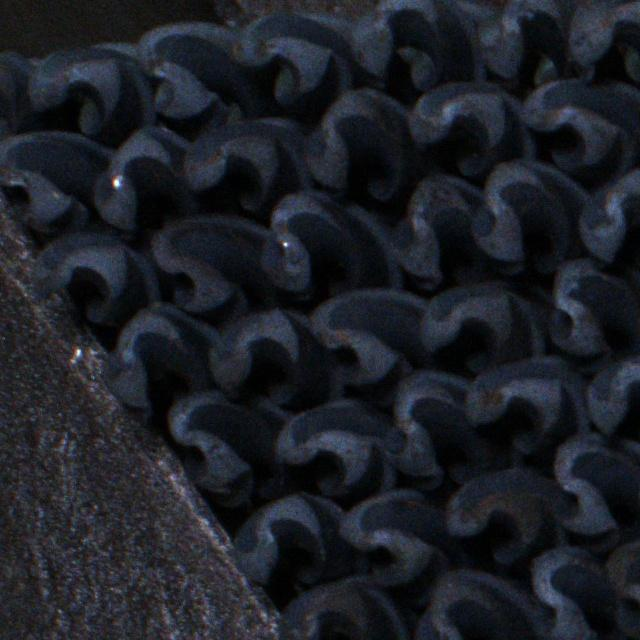tool_b: (384, 369, 520, 488), (262, 189, 404, 296), (165, 390, 292, 506), (107, 303, 223, 424), (474, 160, 595, 276), (138, 21, 263, 130), (208, 309, 345, 407), (232, 496, 368, 594), (342, 488, 458, 600), (466, 357, 594, 457), (350, 2, 492, 92), (408, 79, 540, 175), (300, 87, 413, 199), (147, 215, 273, 315), (183, 115, 316, 209), (306, 286, 431, 385), (275, 398, 401, 496), (230, 14, 360, 108), (29, 41, 157, 136), (442, 468, 566, 566), (29, 234, 160, 326), (419, 283, 552, 371), (0, 134, 115, 235), (519, 76, 639, 172), (91, 124, 198, 230), (386, 174, 484, 287), (479, 0, 598, 84), (549, 435, 640, 541), (547, 261, 640, 363), (415, 568, 543, 637), (278, 576, 415, 640), (525, 548, 617, 640), (580, 168, 640, 268), (569, 0, 640, 81), (587, 354, 640, 436), (603, 519, 640, 636), (0, 49, 43, 138)
